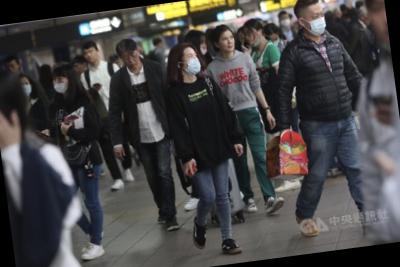mask_weared_incorrect: (242, 27, 262, 48), (198, 39, 209, 55)
with_mask: (303, 9, 329, 38), (180, 50, 204, 78), (52, 75, 71, 96), (18, 80, 34, 97), (280, 15, 293, 28), (271, 36, 282, 48)
without_mask: (218, 34, 238, 54), (122, 51, 142, 70), (82, 48, 100, 65), (7, 61, 21, 76), (74, 62, 86, 75)
